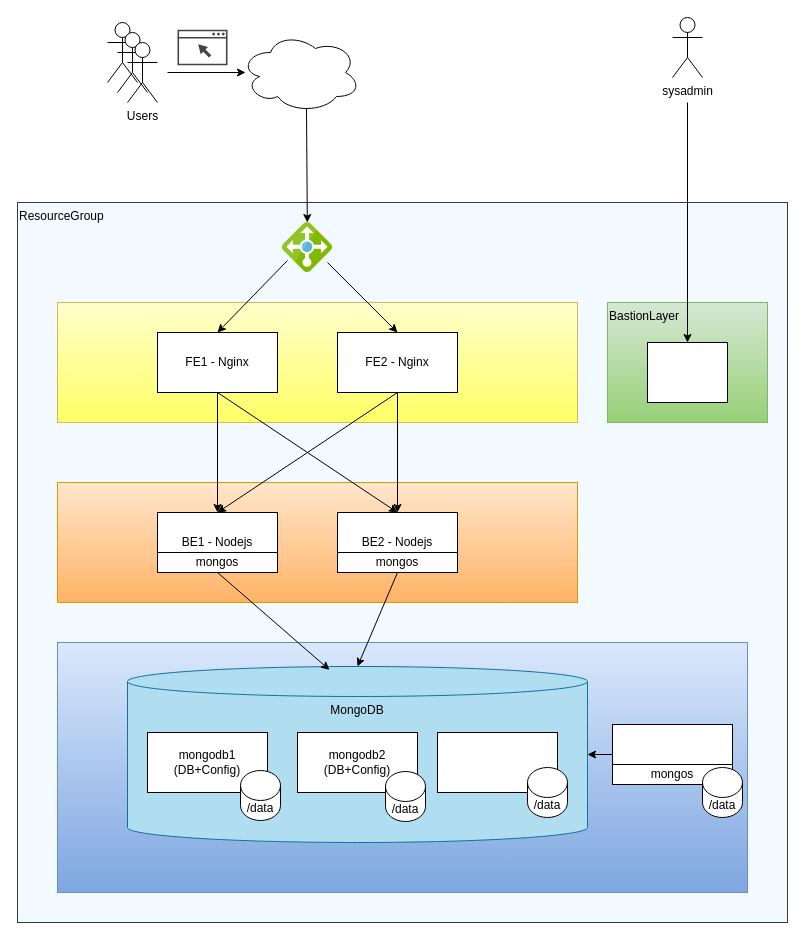
Image size: 805x940. Some labels were removed from this diagram. Each missing label, with the box of its shape:
Bastion: (646, 342, 728, 402)
Internet: (240, 32, 360, 112)
Layer BE: (56, 482, 578, 602)
Layer Data: (56, 642, 748, 892)
Layer FE: (56, 302, 578, 422)
Mongodb-backup: (612, 724, 732, 784)
mongodb3 (DB+Config): (436, 732, 558, 792)
